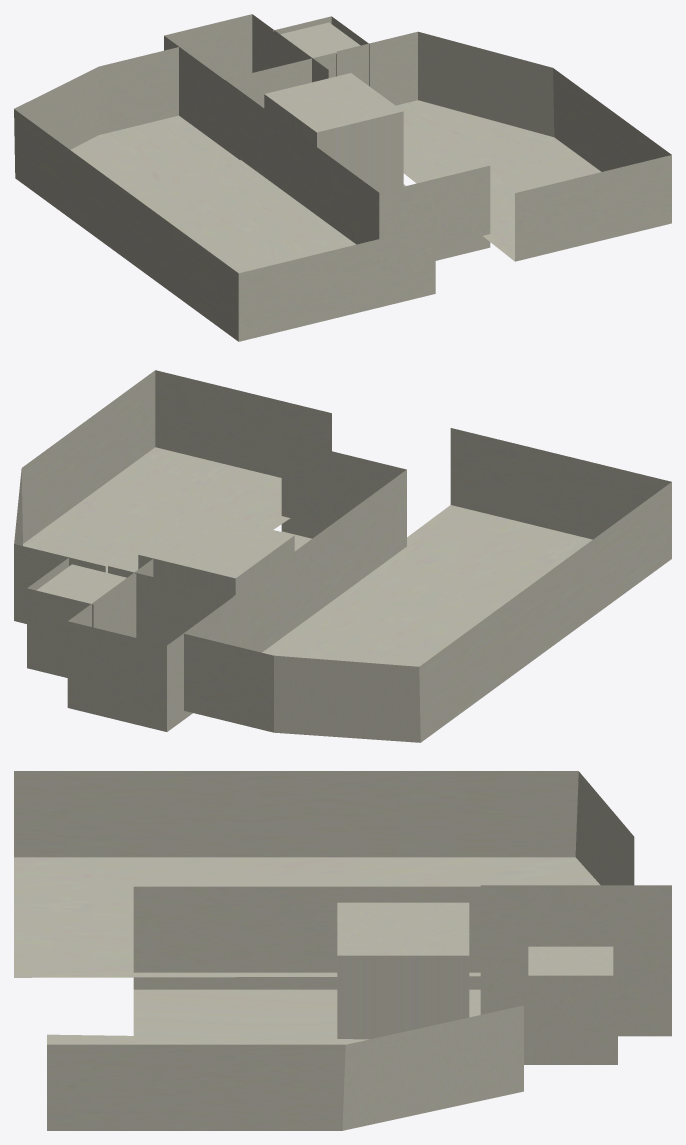
File: nt_2020_shelves_modern_LOD2.obj
3 views of the same model, one above another, from view 1: azimuth 30°, elevation 25°; view 2: azimuth 150°, elevation 25°; view 3: azimuth 270°, elevation 25° (orthographic). The views are drawn at different scales.
Parts seen in each view (by area): view 1: nt_2020_plastic_cream; view 2: nt_2020_plastic_cream; view 3: nt_2020_plastic_cream.
Part boxes in pixels (bbox=[...]): nt_2020_plastic_cream: bbox=[14, 14, 671, 341]; nt_2020_plastic_cream: bbox=[14, 370, 671, 742]; nt_2020_plastic_cream: bbox=[14, 771, 671, 1130].
Bounding box in the file's own units: 173 × 30.64 × 176.
